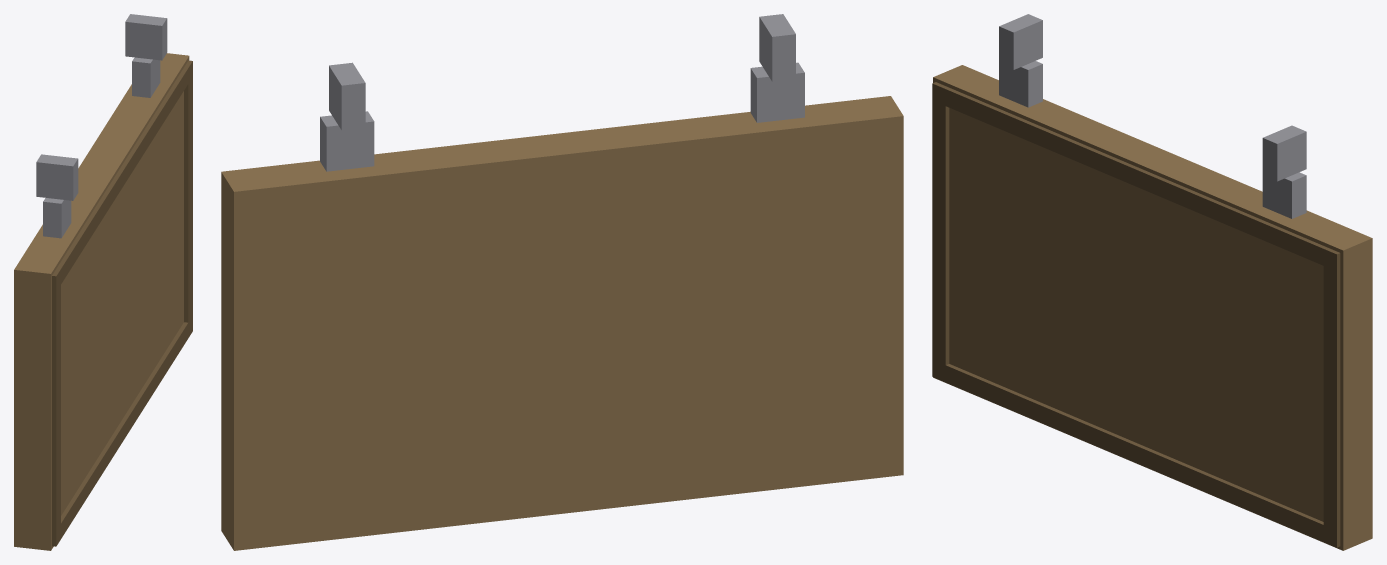
File: sign_dark_oak_hang_diag.gltf
The picture shows the model from 3 angles, left to right: view 1: azimuth 30°, elevation 25°; view 2: azimuth 150°, elevation 25°; view 3: azimuth 270°, elevation 25°; orthographic projection. The views are drawn at different scales.
Parts seen in each view (by area): view 1: sign_dark_oak_hang_diag; view 2: sign_dark_oak_hang_diag; view 3: sign_dark_oak_hang_diag.
Part boxes in pixels (<box>): sign_dark_oak_hang_diag: <box>14,14,192,550</box>; sign_dark_oak_hang_diag: <box>221,14,903,550</box>; sign_dark_oak_hang_diag: <box>932,14,1372,550</box>.
Size of the model in its own units: 0.664 by 0.631 by 0.664.
